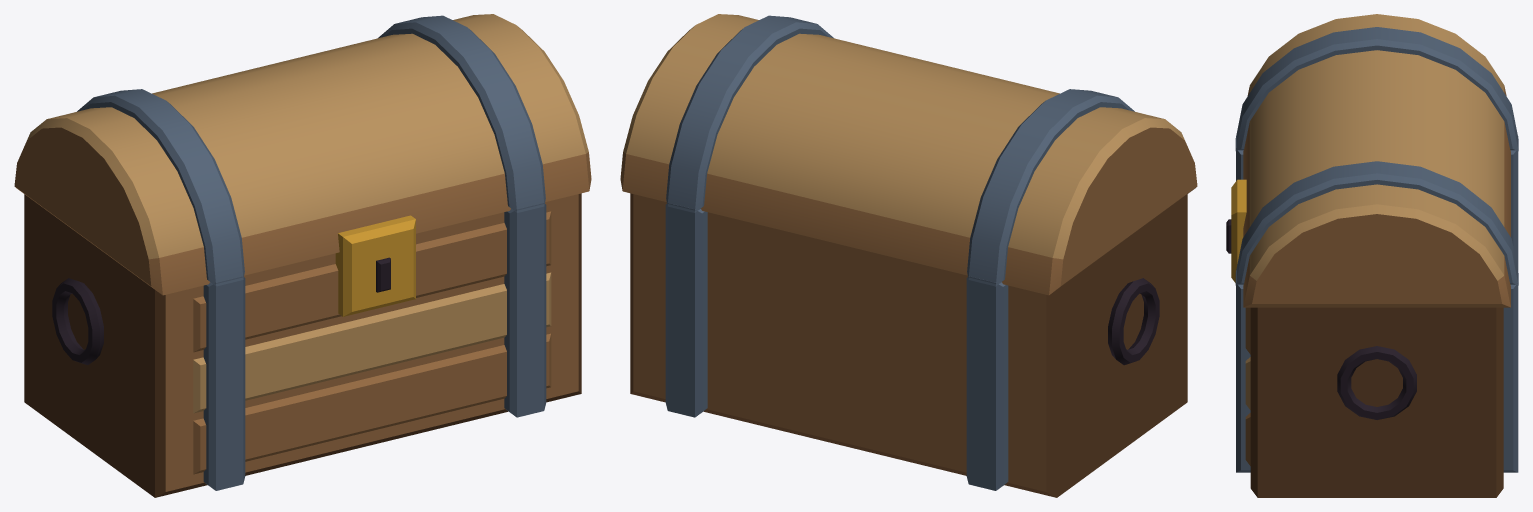
Rendered from Chest_16.glb.
3 views of the same model, side by side, from view 1: azimuth 30°, elevation 25°; view 2: azimuth 150°, elevation 25°; view 3: azimuth 270°, elevation 25° (orthographic). The views are drawn at different scales.
Parts seen in each view (by area): view 1: Chest_16; view 2: Chest_16; view 3: Chest_16.
Boxes of the visible parts, x1,y1,x2,y2 form: Chest_16: (14, 14, 591, 497); Chest_16: (620, 14, 1197, 497); Chest_16: (1226, 14, 1518, 497).
Bounding box in the file's own units: 4.04 × 2.77 × 2.42.
